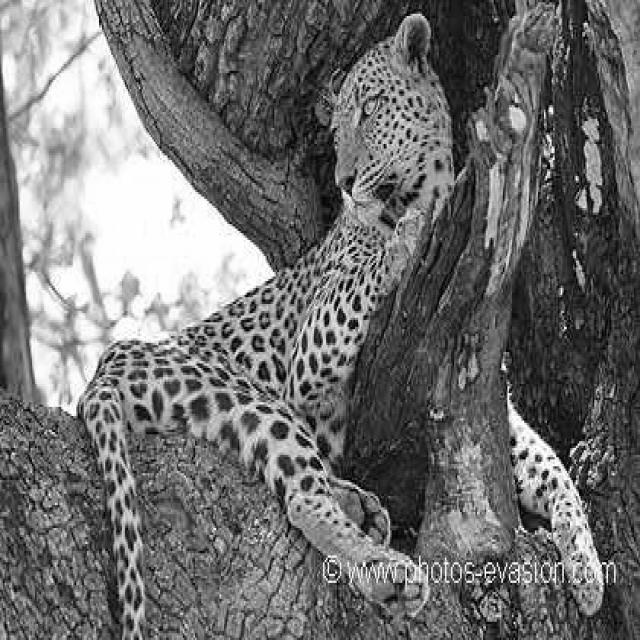Leopard: (72, 30, 528, 528)
